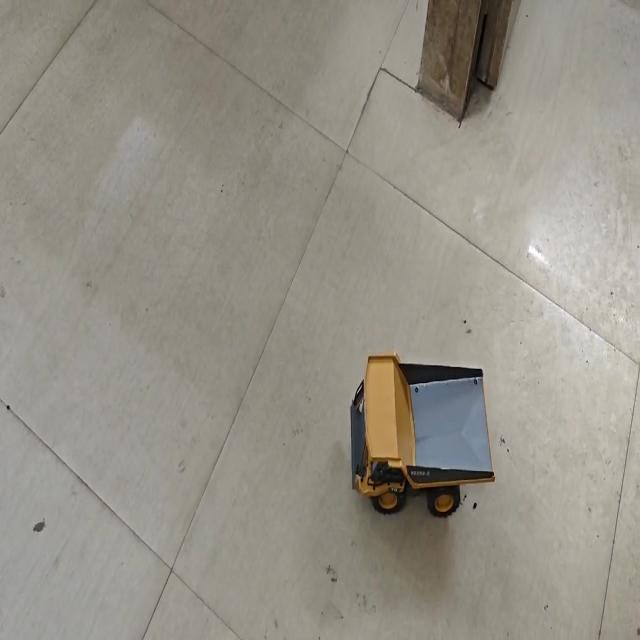dump_truck: (347, 358, 497, 521)
